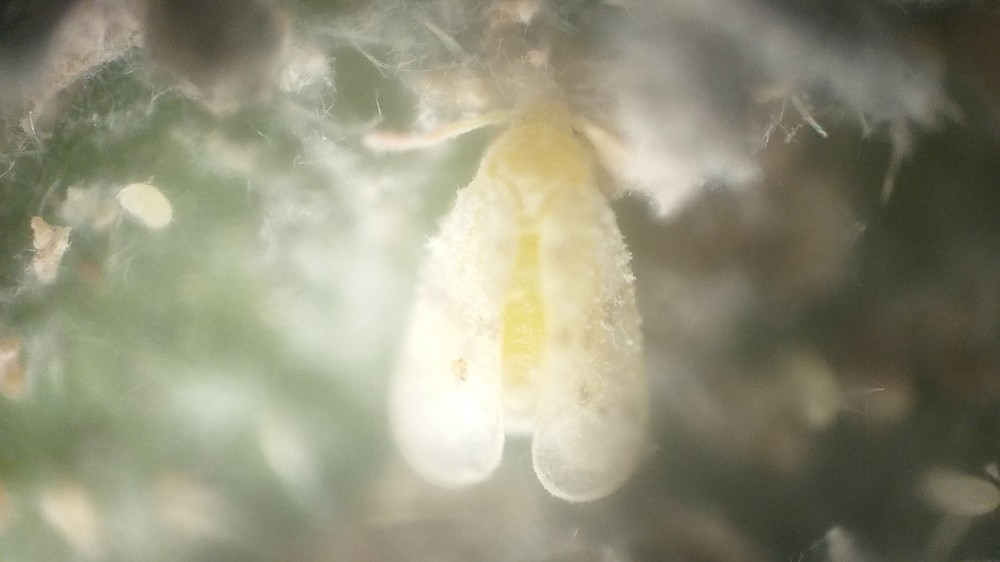Mosca Blanca: (353, 96, 736, 513)
